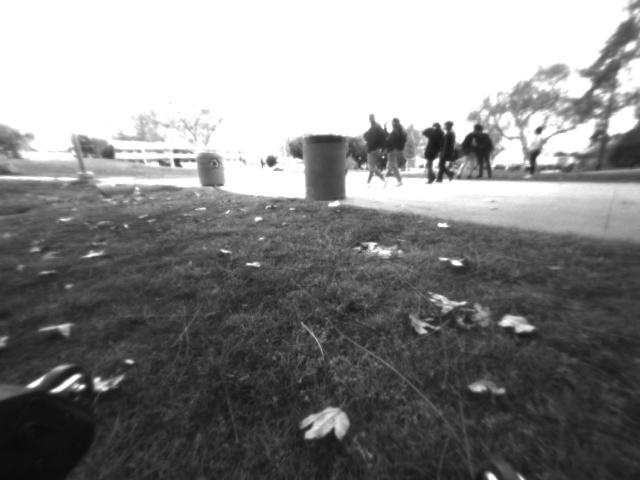trashcan: (301, 132, 348, 206), (197, 146, 227, 194)
